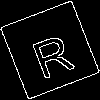R: (25, 25, 77, 81)
